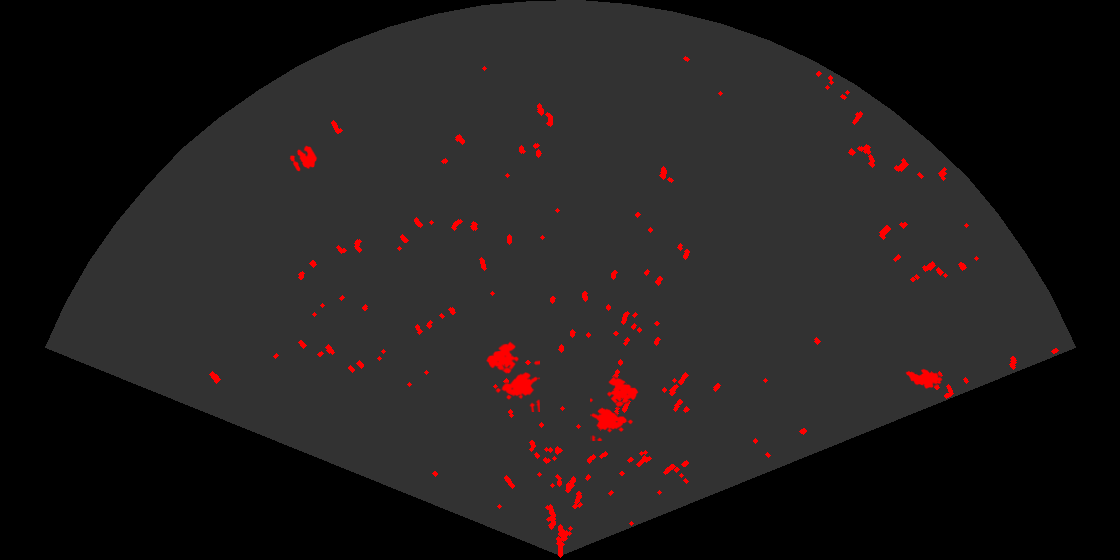AUV: (904, 367, 944, 391)
ball: (288, 144, 319, 173)
cage: (485, 340, 540, 412), (590, 375, 640, 441)
